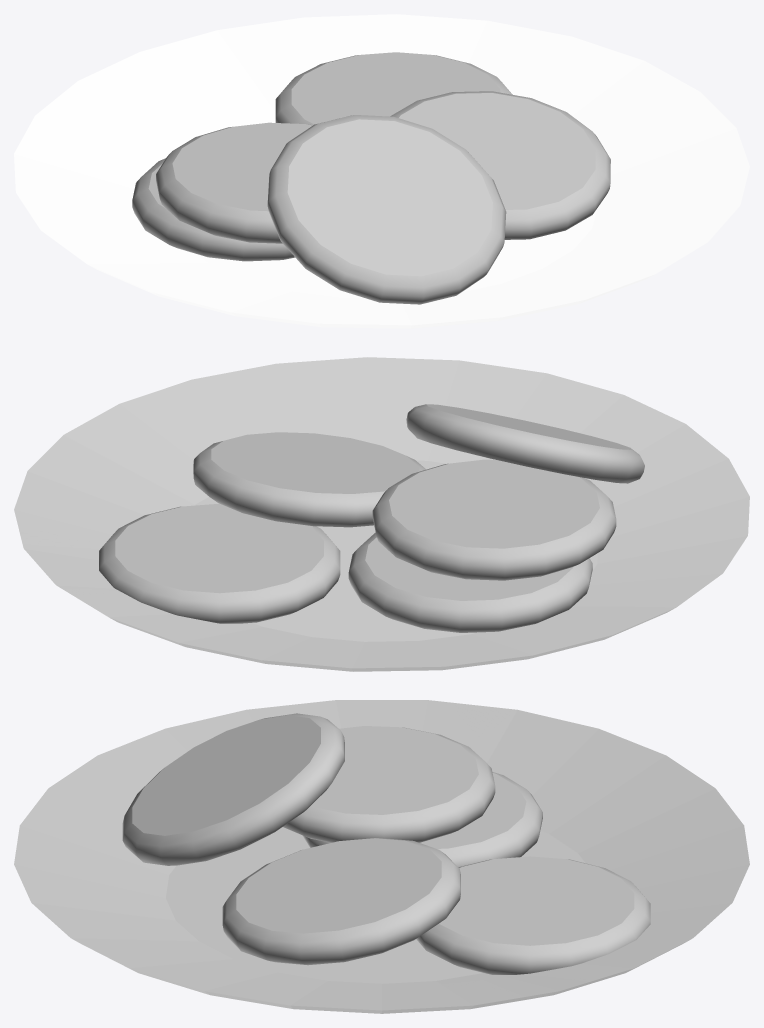
Rendered from Cookies.FBX.
The picture shows the model from 3 angles, top to bottom: view 1: azimuth 30°, elevation 25°; view 2: azimuth 150°, elevation 25°; view 3: azimuth 270°, elevation 25°; orthographic projection.
Visible parts, largest first — view 1: cookies; view 2: cookies; view 3: cookies.
Part boxes in pixels (box(x1,y1,x2,y2)): cookies: box(14, 14, 749, 328); cookies: box(14, 357, 749, 671); cookies: box(14, 700, 749, 1013).
Size of the model in its own units: 29.49 by 6.76 by 29.55.
